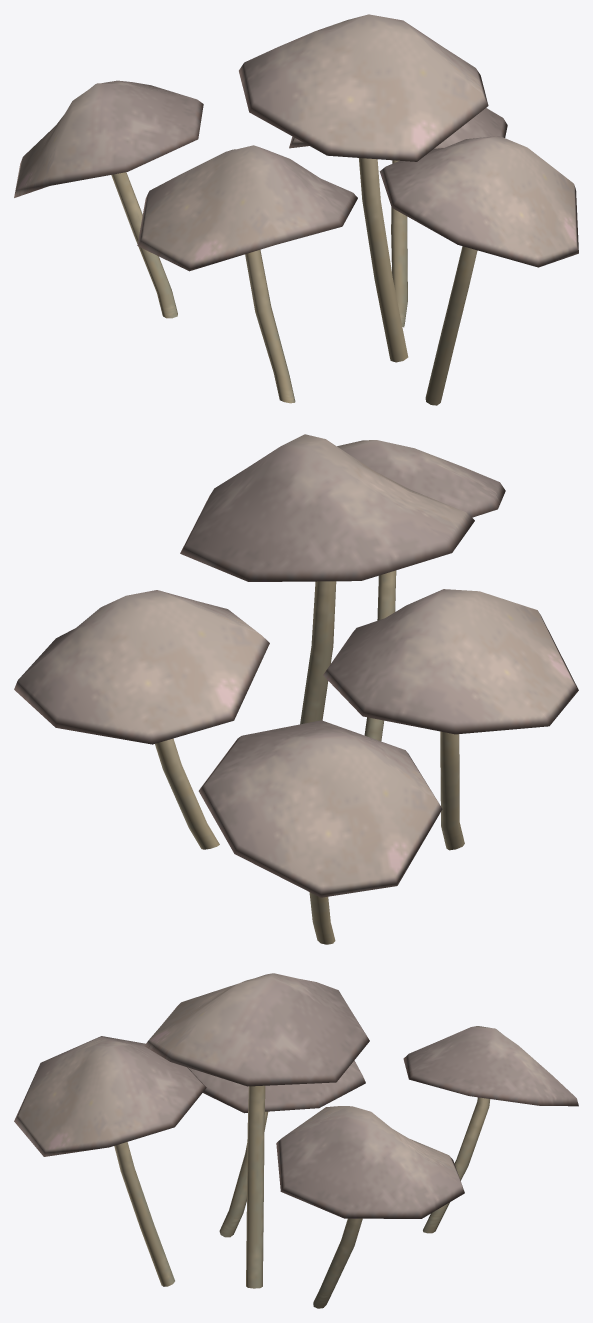
Rendered from Mushroom_Common.glb.
3 renders of one model, top to bottom at view 1: azimuth 30°, elevation 25°; view 2: azimuth 150°, elevation 25°; view 3: azimuth 270°, elevation 25°, orthographic. The views are drawn at different scales.
Visible parts, largest first — view 1: Mushroom_Common; view 2: Mushroom_Common; view 3: Mushroom_Common.
Boxes of the visible parts, x1,y1,x2,y2 form: Mushroom_Common: (14,14,578,405); Mushroom_Common: (14,434,578,944); Mushroom_Common: (14,973,578,1308).
Bounding box in the file's own units: 0.5637 × 0.4635 × 0.7791.
1 material, 1 textured.
